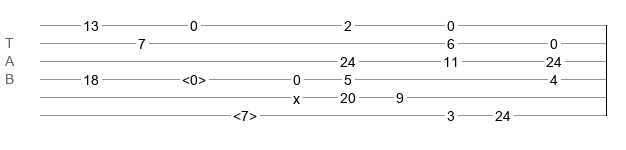0: (190, 18, 198, 28), (293, 72, 301, 82), (447, 18, 455, 28), (550, 36, 558, 46)
11: (443, 54, 459, 64)
13: (83, 18, 99, 28)
18: (83, 72, 99, 82)
2: (344, 18, 352, 28)
20: (340, 90, 356, 100)
24: (340, 54, 356, 64), (495, 108, 511, 118), (546, 54, 562, 64)
3: (447, 108, 455, 118)
4: (550, 72, 558, 82)
5: (344, 72, 352, 82)
6: (447, 36, 455, 46)
7: (138, 36, 146, 46)
9: (396, 90, 404, 100)
harmonic: (182, 72, 206, 82), (233, 108, 257, 118)
x: (293, 91, 300, 99)
